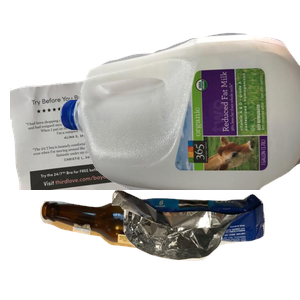glass: (37, 198, 236, 300)
paper: (10, 61, 250, 241)
plastic: (60, 30, 300, 210)
trash: (109, 187, 300, 300)
